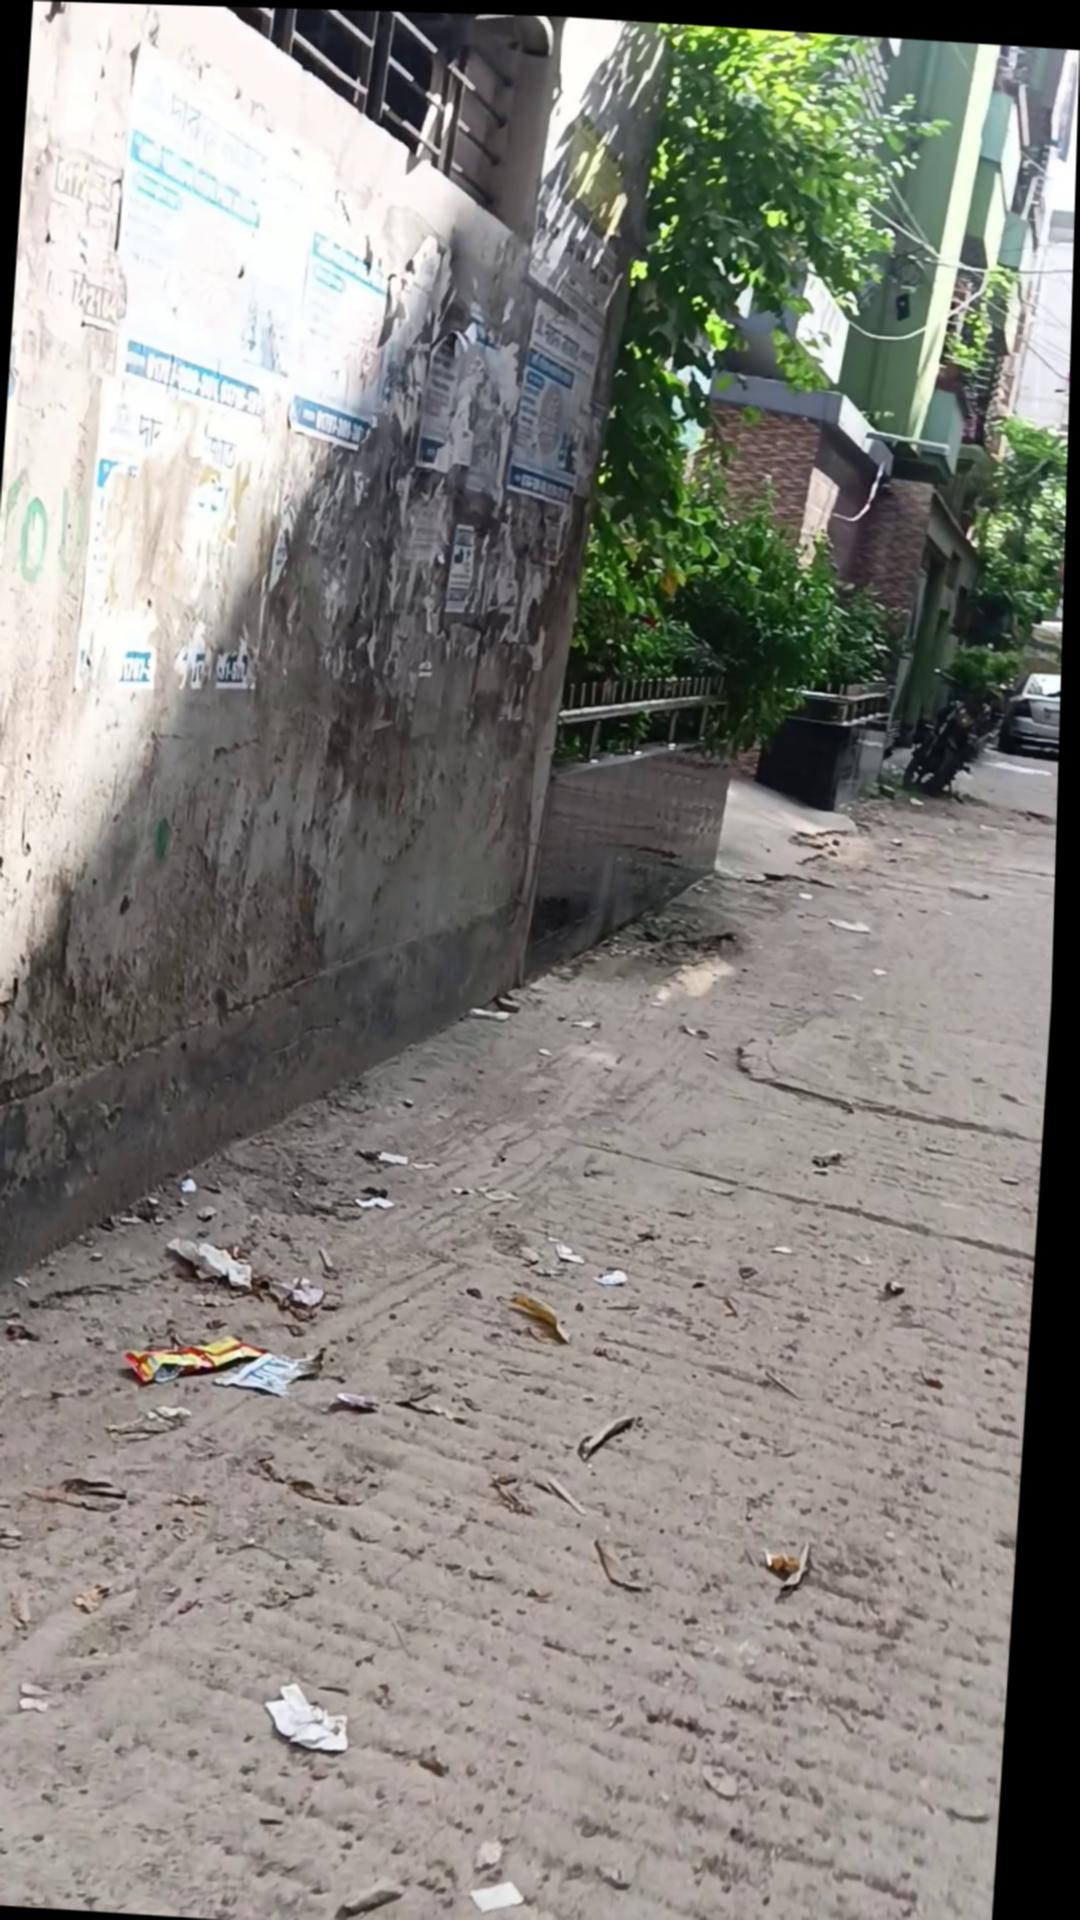Bench: (556, 675, 735, 767)
Car: (1000, 662, 1065, 752)
Crosswalk: (0, 686, 741, 1362)
Motorcycle: (522, 670, 742, 996), (756, 671, 897, 810)
Potted-plant: (0, 680, 1064, 1920)
